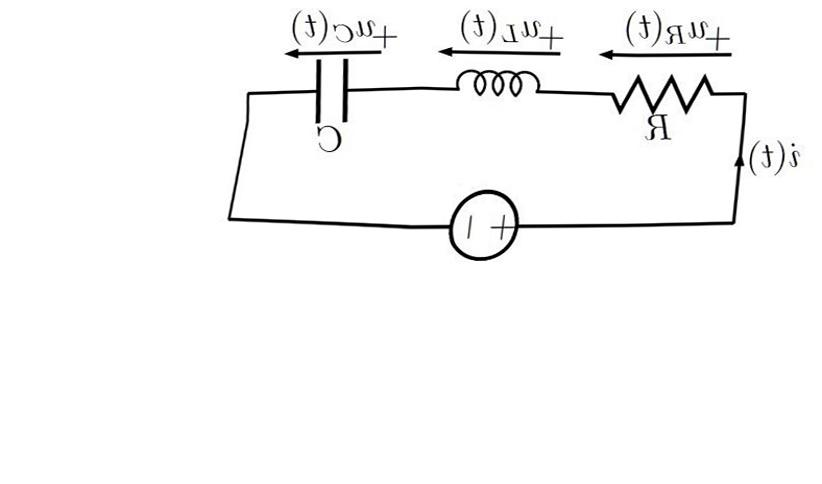Battery: (413, 162, 544, 292)
